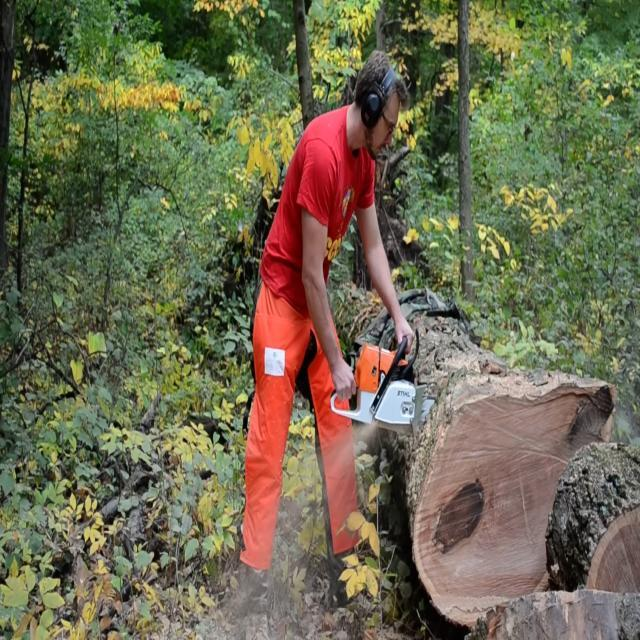Chainsaw: (318, 311, 462, 456)
